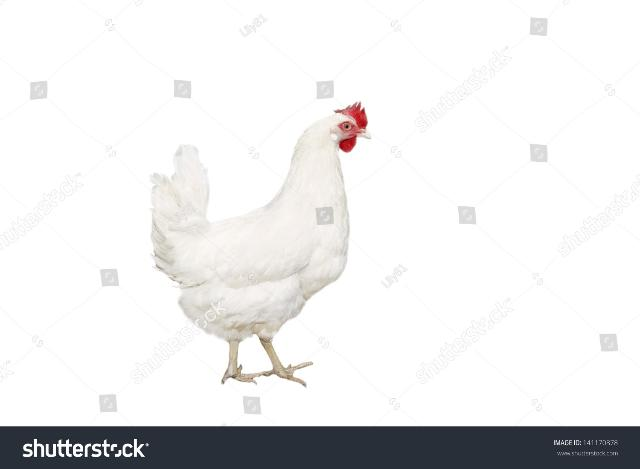Chicken: (151, 101, 374, 390)
